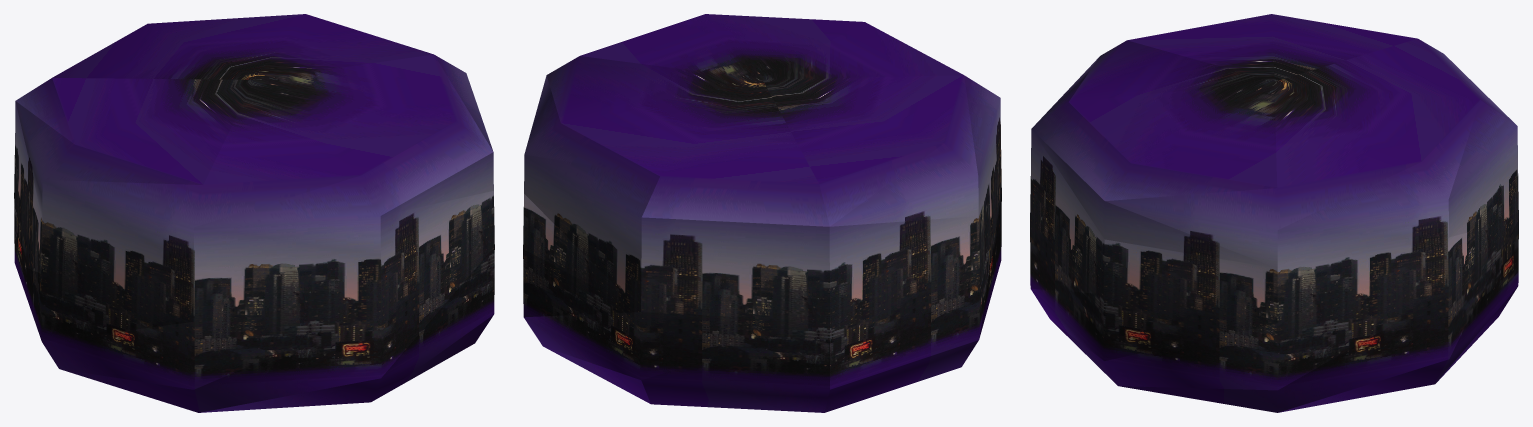
Rendered from STG0100_D_19.fbx.
3 renders of one model, left to right at view 1: azimuth 30°, elevation 25°; view 2: azimuth 150°, elevation 25°; view 3: azimuth 270°, elevation 25°, orthographic.
Visible parts, largest first — view 1: STG0100_D_19_s0100_nn026; view 2: STG0100_D_19_s0100_nn026; view 3: STG0100_D_19_s0100_nn026.
Boxes of the visible parts, x1,y1,x2,y2 form: STG0100_D_19_s0100_nn026: (14, 14, 494, 412); STG0100_D_19_s0100_nn026: (523, 14, 1001, 412); STG0100_D_19_s0100_nn026: (1030, 14, 1518, 412).
Size of the model in its own units: 18904 by 10845 by 18904.
